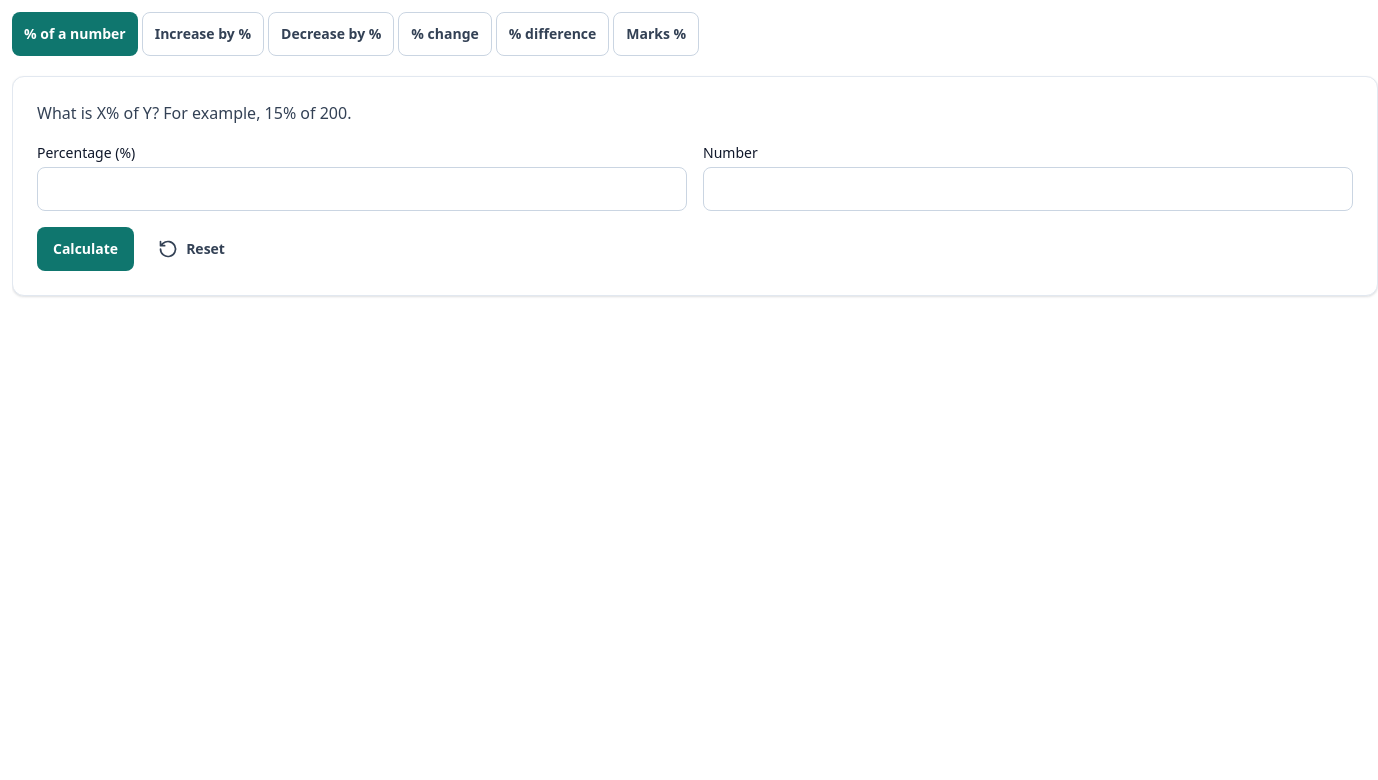
Test: PercentageCalculator › calculates marks percentage
Click the tab "Marks %": x=656, y=34 [613, 12, 699, 56]
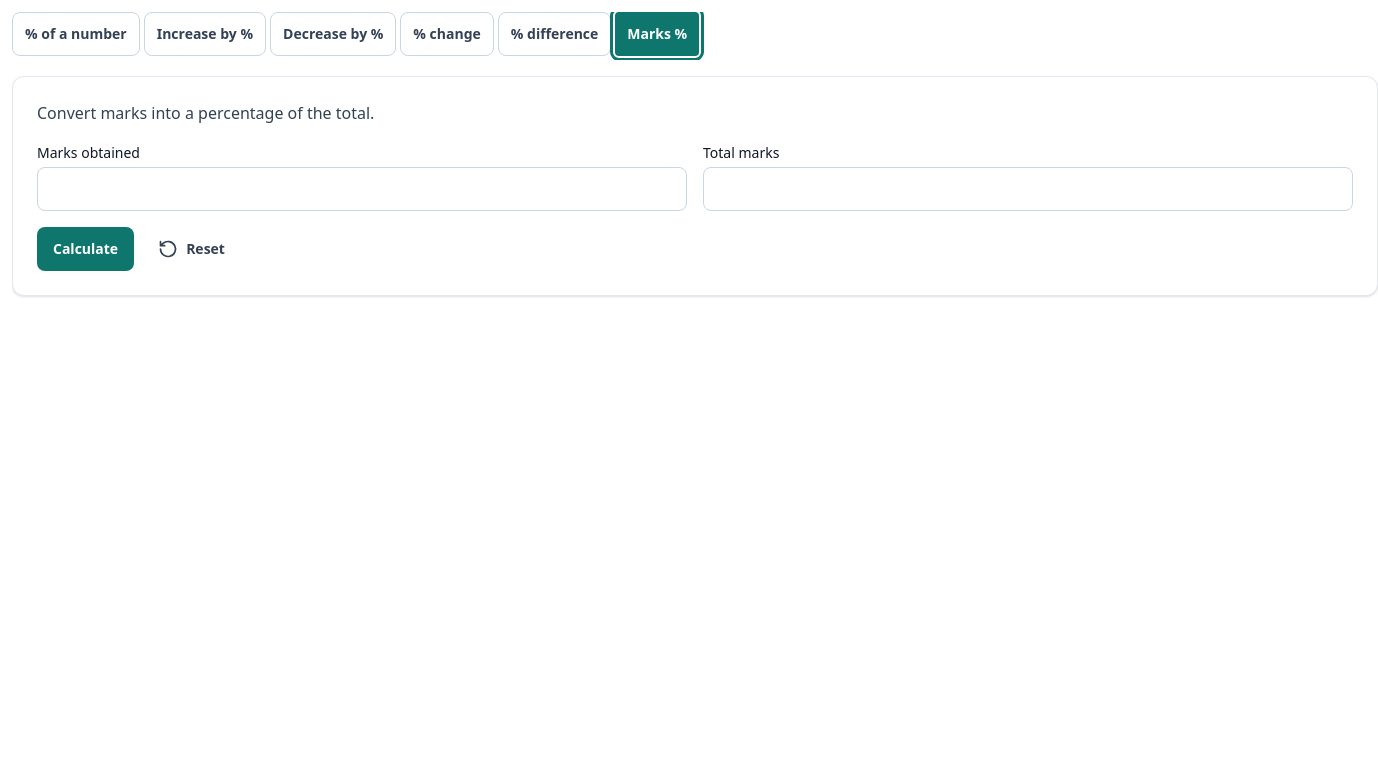
In the field labelled "Marks obtained": x=362, y=189 [37, 167, 687, 211], type "432"
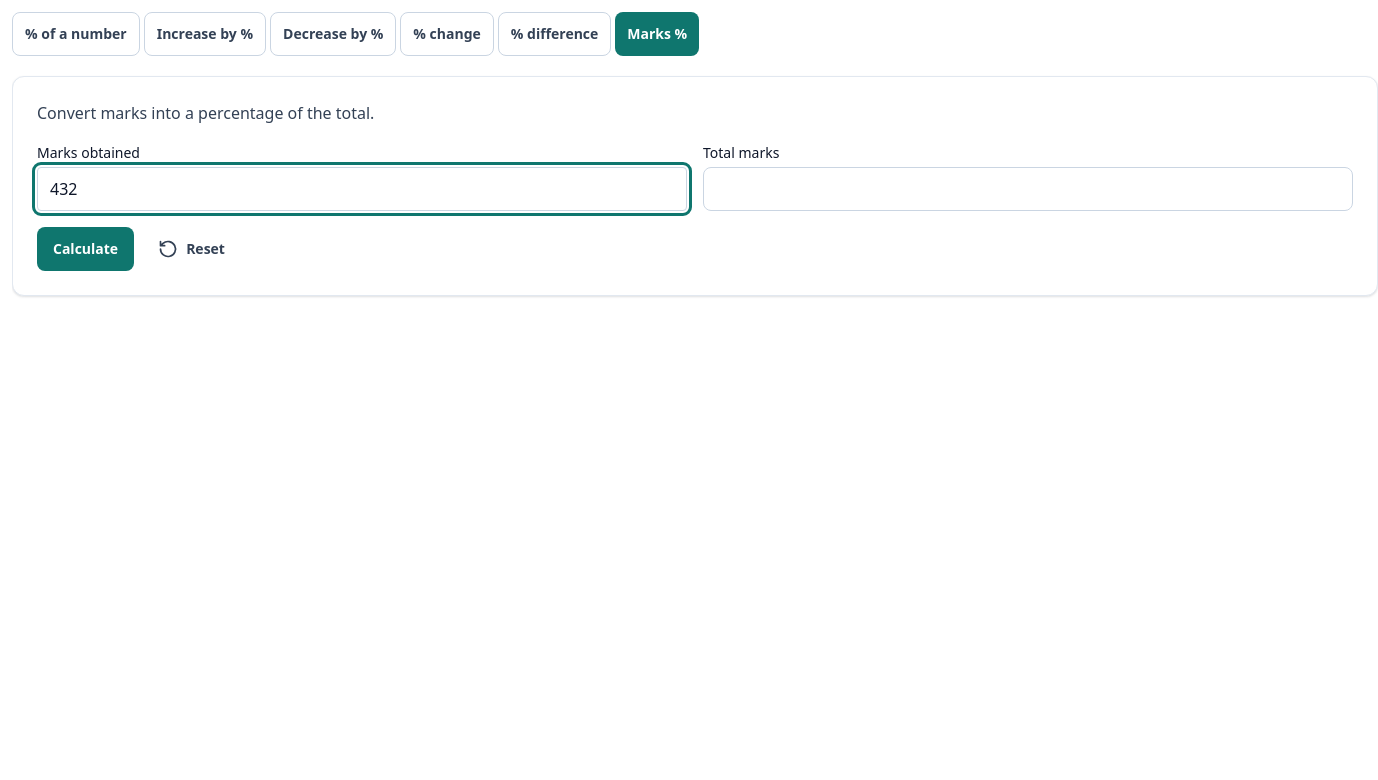
In the field labelled "Total marks": x=1028, y=189 [703, 167, 1353, 211], type "500"
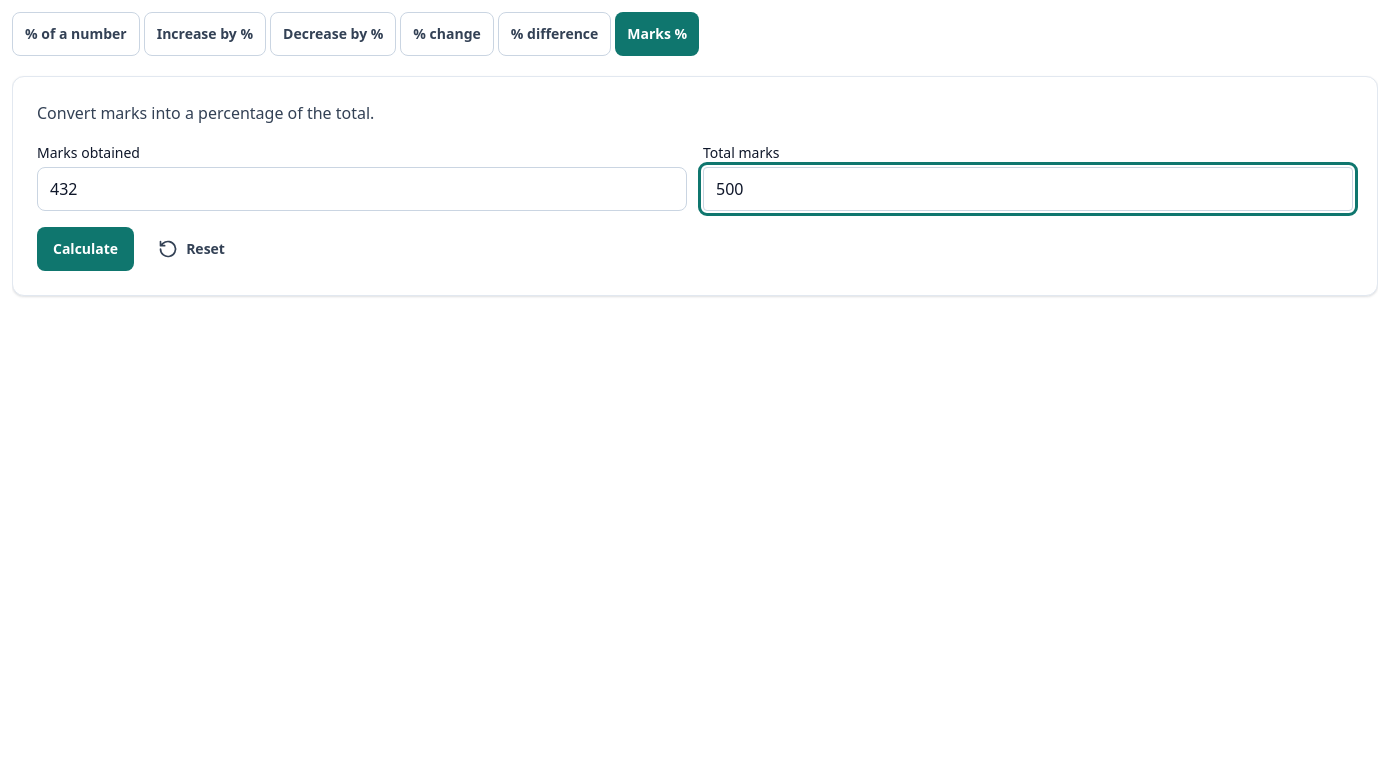
Click the button "Calculate": x=86, y=249 [37, 227, 134, 271]
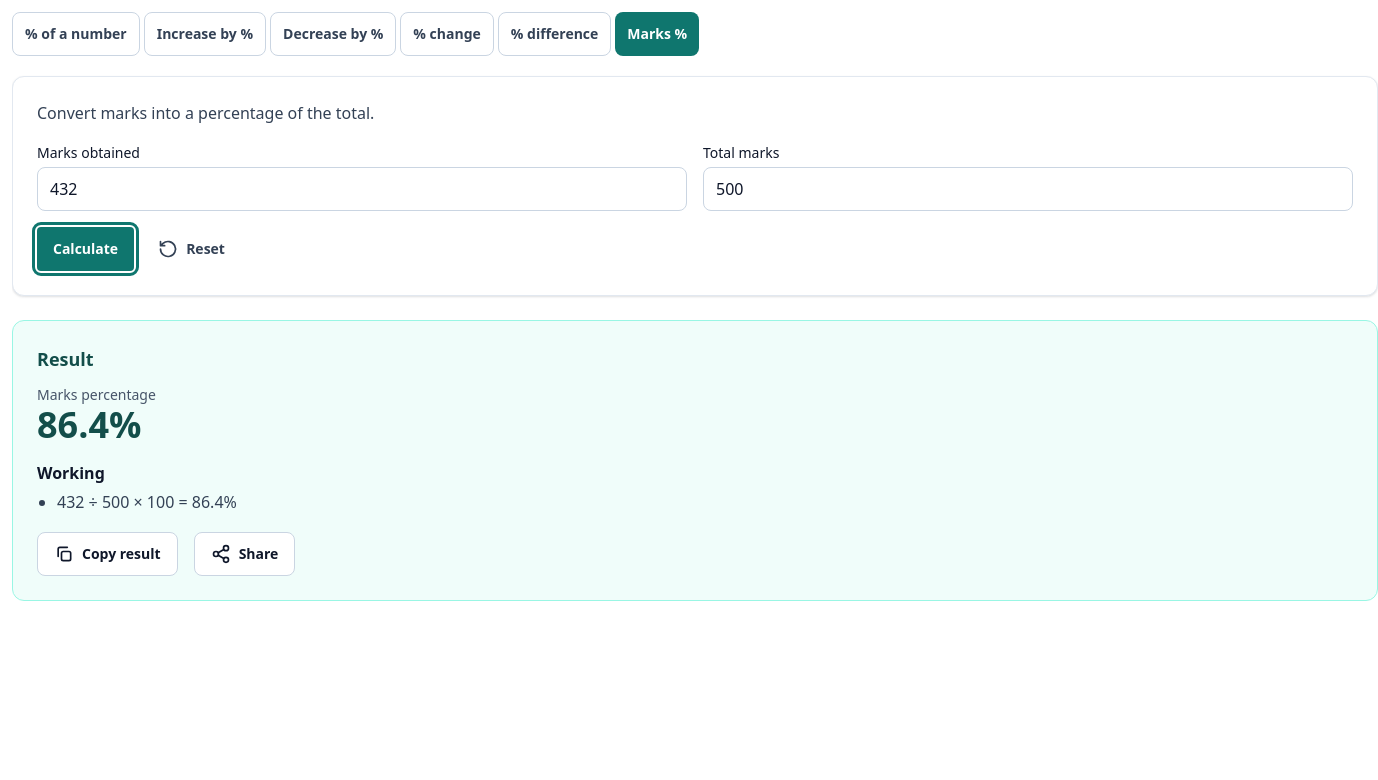
Result: the text "86.4%" is shown at [37, 400, 142, 449]
